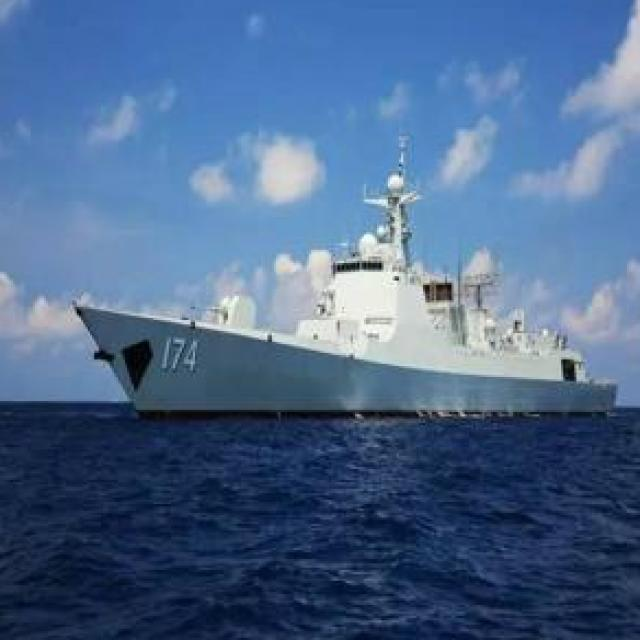navalvessels: (48, 119, 615, 427)
